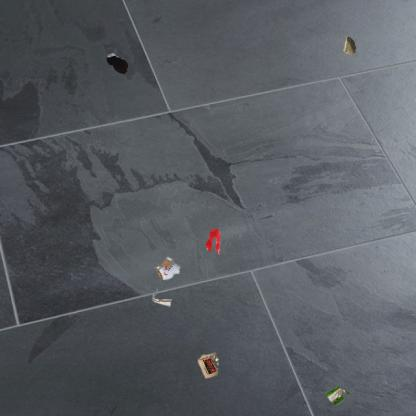dirty: (153, 255, 182, 282), (196, 350, 221, 380), (324, 384, 351, 408), (150, 287, 172, 309), (342, 34, 357, 57)
liquid: (106, 52, 130, 75), (204, 227, 221, 256)
